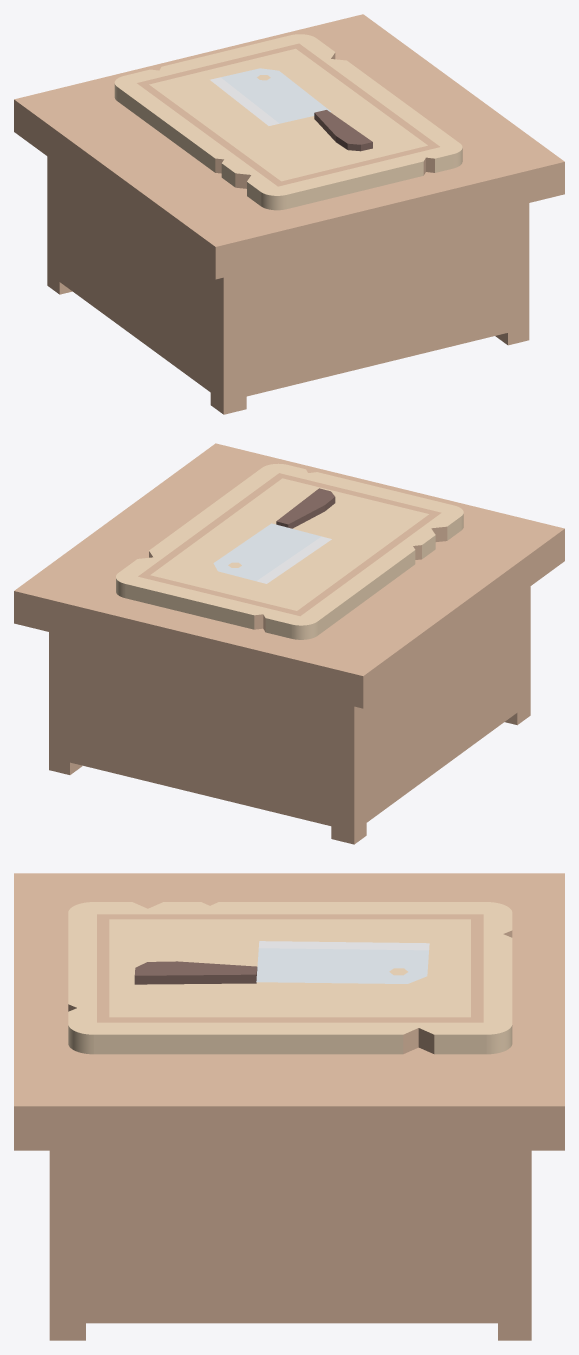
Rendered from cutting_board.fbx.
3 views of the same model, one above another, from view 1: azimuth 30°, elevation 25°; view 2: azimuth 150°, elevation 25°; view 3: azimuth 270°, elevation 25° (orthographic). The views are drawn at different scales.
Visible parts, largest first — view 1: Table, cuttingBoard, cookingKnifeChopping; view 2: Table, cuttingBoard, cookingKnifeChopping; view 3: Table, cuttingBoard, cookingKnifeChopping.
Boxes of the visible parts, left/top/right/bottom form: Table: left=14, top=14, right=564, bottom=414; cuttingBoard: left=114, top=34, right=462, bottom=210; cookingKnifeChopping: left=210, top=68, right=372, bottom=151; Table: left=14, top=443, right=564, bottom=844; cuttingBoard: left=116, top=463, right=463, bottom=639; cookingKnifeChopping: left=213, top=488, right=335, bottom=583; Table: left=14, top=873, right=564, bottom=1340; cuttingBoard: left=68, top=902, right=512, bottom=1054; cookingKnifeChopping: left=134, top=941, right=429, bottom=984.
Bounding box in the file's own units: 200 × 113 × 200.
